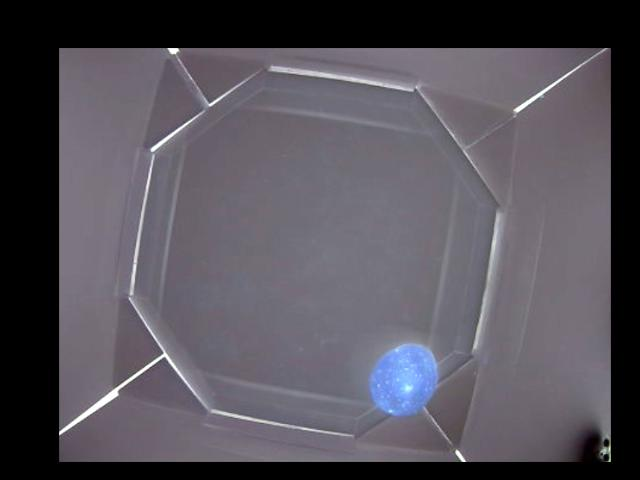Potato: (369, 343, 435, 417)
